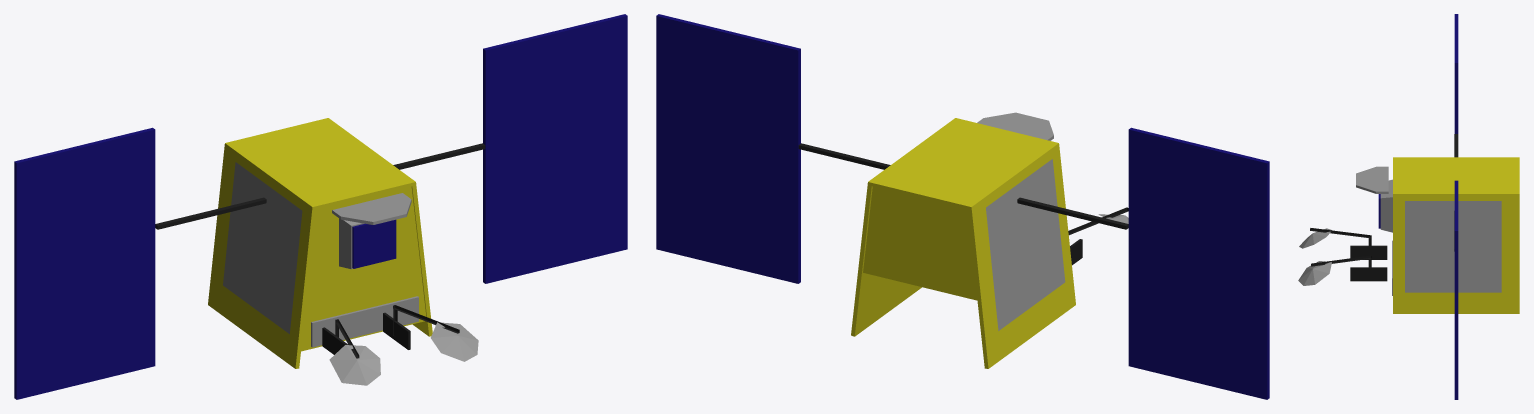
The model's file is oneweb.obj.
The picture shows the model from 3 angles, left to right: view 1: azimuth 30°, elevation 25°; view 2: azimuth 150°, elevation 25°; view 3: azimuth 270°, elevation 25°; orthographic projection. The views are drawn at different scales.
Parts seen in each view (by area): view 1: SolarPanels, GoldMetal, LightMetal, DarkMetal; view 2: SolarPanels, GoldMetal, LightMetal, DarkMetal; view 3: GoldMetal, LightMetal, SolarPanels, DarkMetal.
Boxes of the visible parts, x1,y1,x2,y2 form: SolarPanels: (14, 14, 627, 399); GoldMetal: (208, 118, 432, 368); LightMetal: (223, 162, 478, 385); DarkMetal: (155, 143, 485, 358); SolarPanels: (656, 14, 1269, 399); GoldMetal: (851, 118, 1075, 368); LightMetal: (977, 112, 1128, 330); DarkMetal: (798, 143, 1128, 265); GoldMetal: (1393, 157, 1519, 313); LightMetal: (1298, 166, 1501, 295); SolarPanels: (1378, 14, 1458, 399); DarkMetal: (1310, 134, 1458, 281).
Size of the model in its own units: 5 by 1.85 by 2.17.
